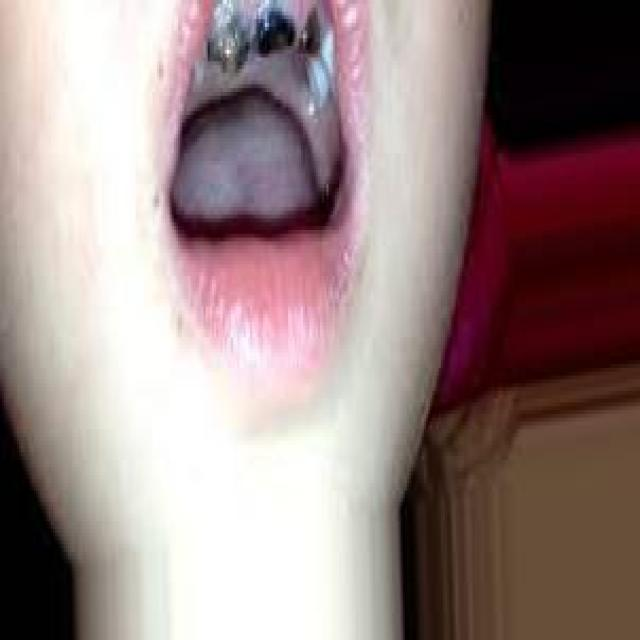caries: (205, 2, 250, 86), (255, 0, 298, 68), (297, 5, 329, 78)
